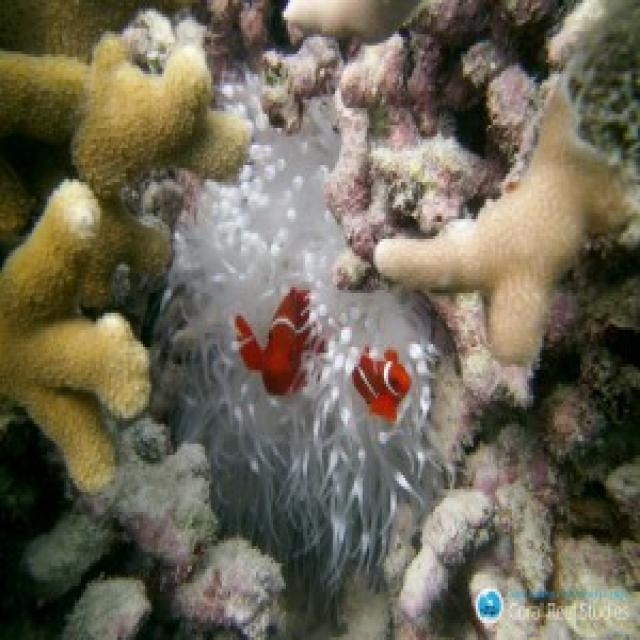Bleached: (163, 101, 443, 587), (82, 428, 287, 640), (210, 1, 391, 183), (330, 120, 504, 263), (419, 10, 551, 189), (398, 490, 551, 640), (464, 425, 564, 630), (22, 504, 150, 640), (438, 297, 504, 487)
Healthy: (376, 83, 639, 362), (1, 180, 150, 490), (1, 32, 251, 197)
